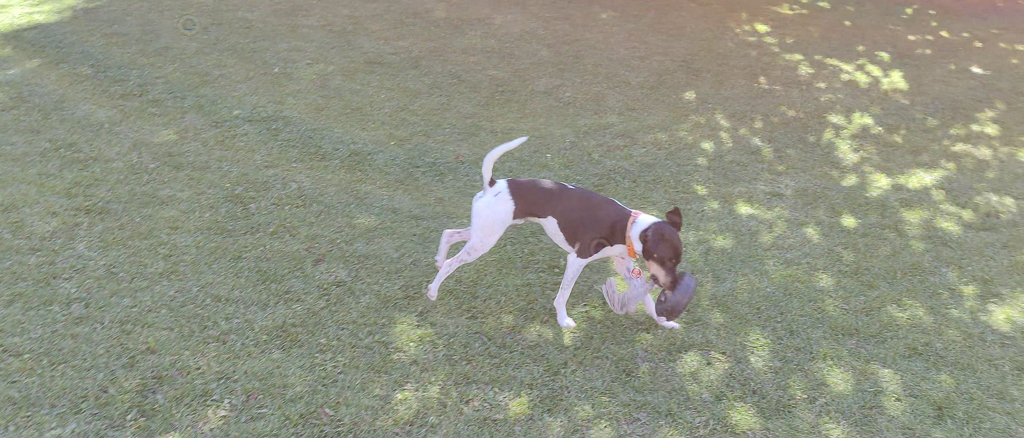Dog: (413, 126, 716, 339)
